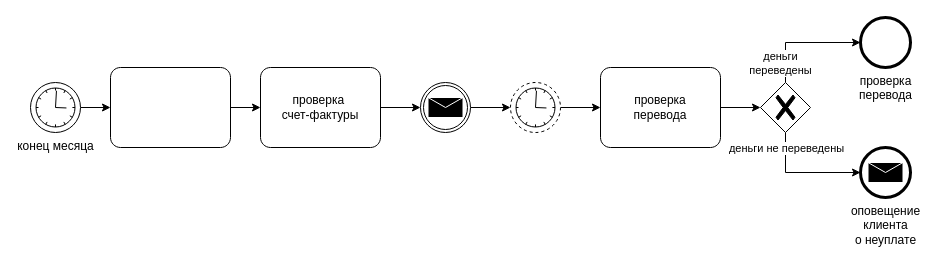
Image size: 937x265. Some labels were removed from this diagram. The centre of each missing label's shape, as x and y in pixels:
4 дня: the point at 535,107
отправка счет-фактуры клиенту: the point at 445,107
создание счет-фактуры: the point at 170,107
